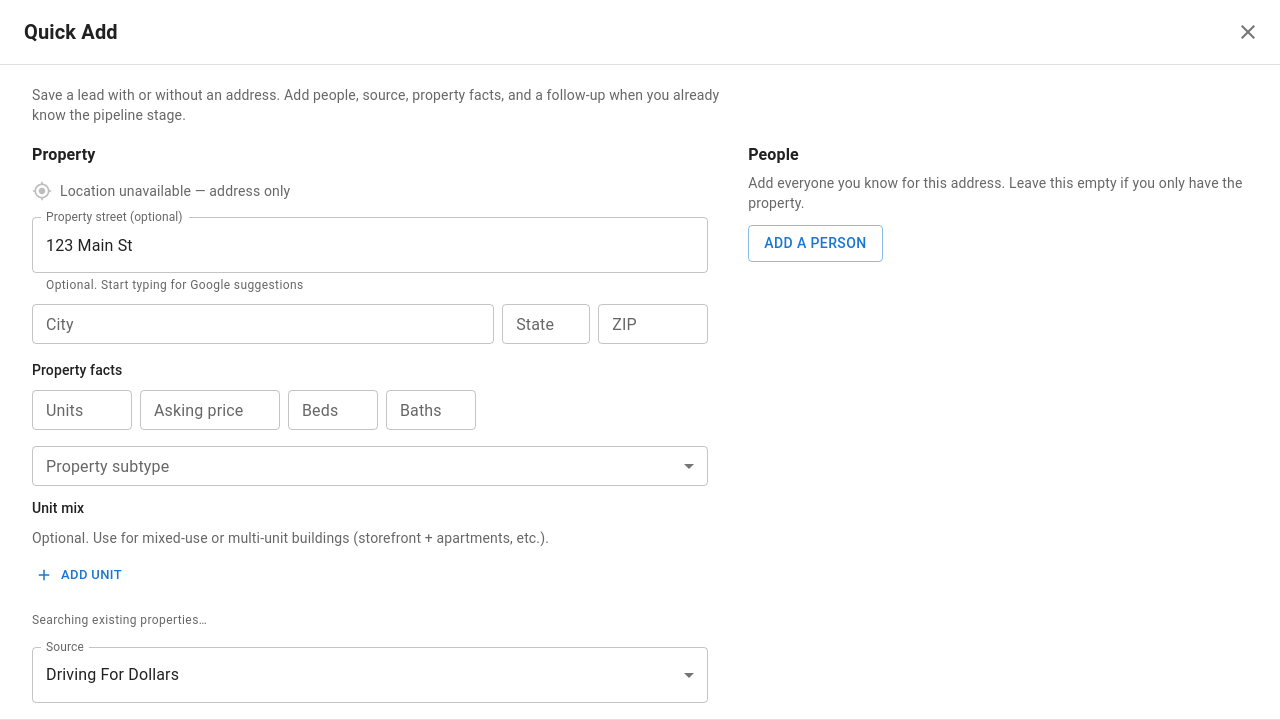
Test: QuickAddPage deprioritized matches › does not save a person row that has no name
Click the button with test id "quick-add-add-person". click: (815, 243)
box: [748,225,883,262]
(page scrolled)
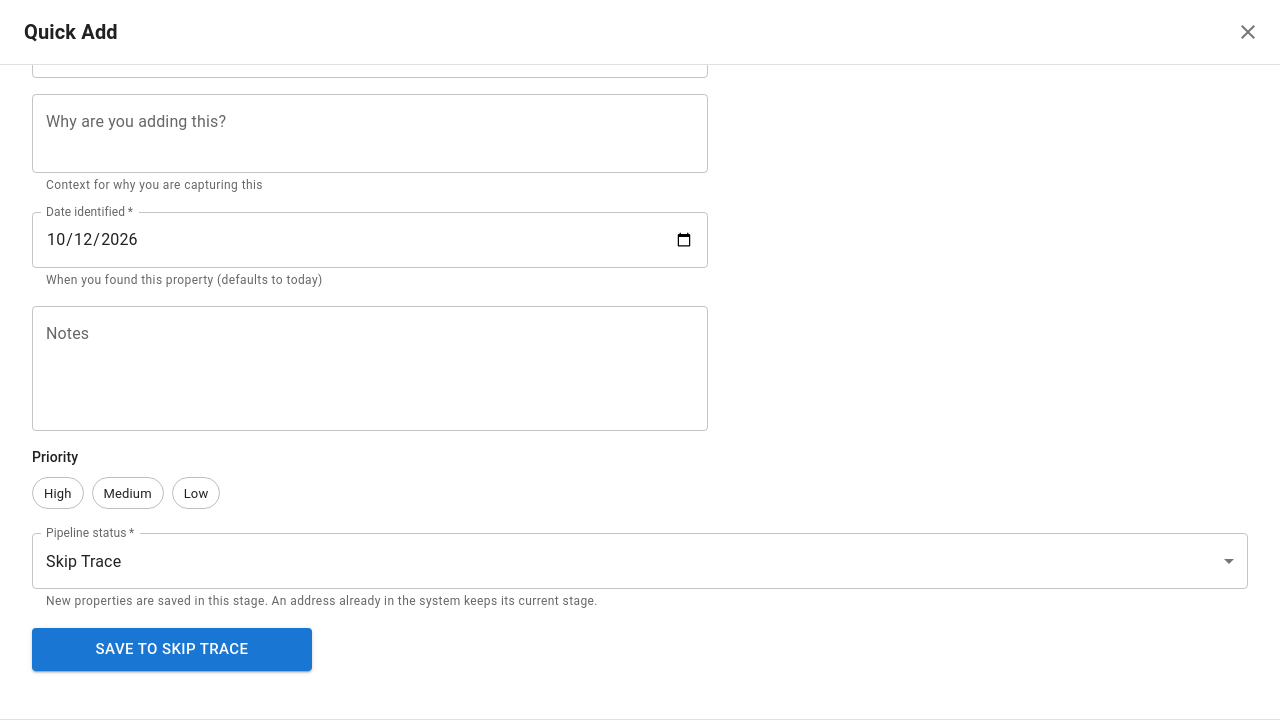
Click the button "Save to Skip Trace". click: (172, 649)
box: [32,628,312,671]
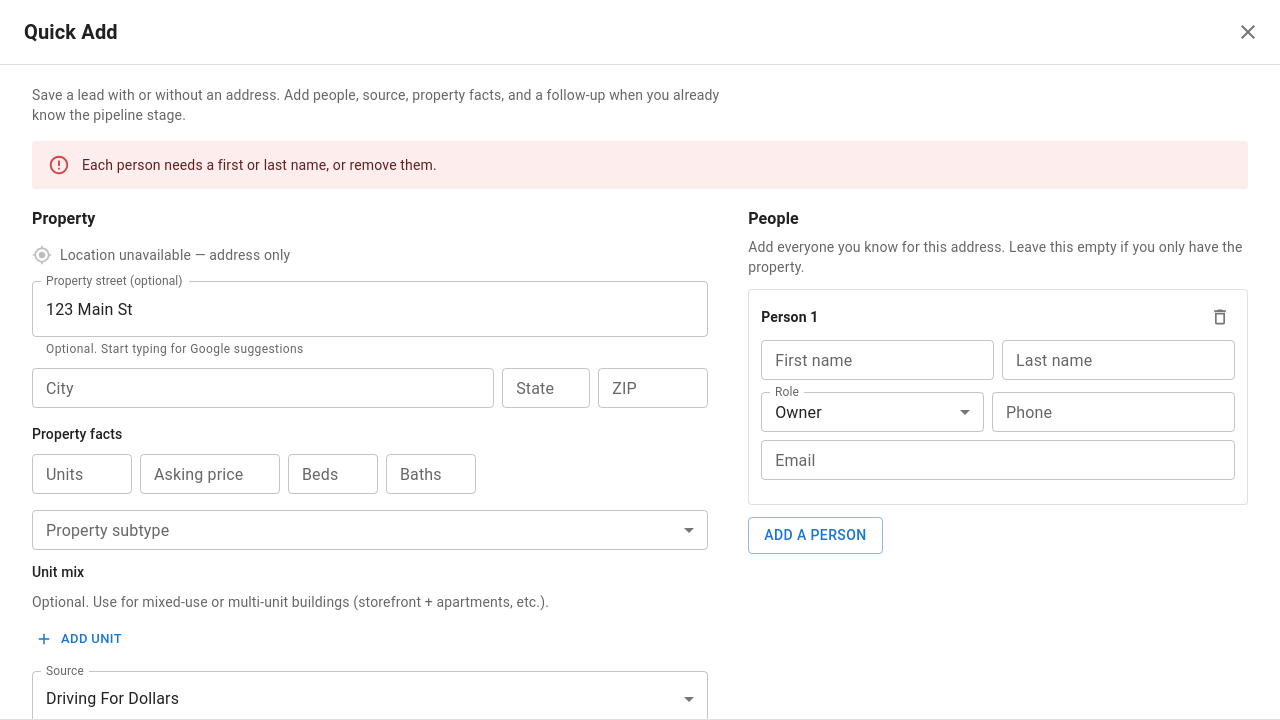
Expected: the text "Each person needs a first or last name, or remove them." is shown, [82,157,437,173]
